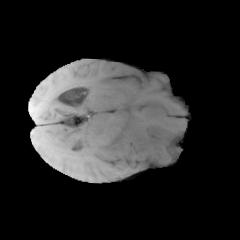glioma: (97, 106, 185, 168)
